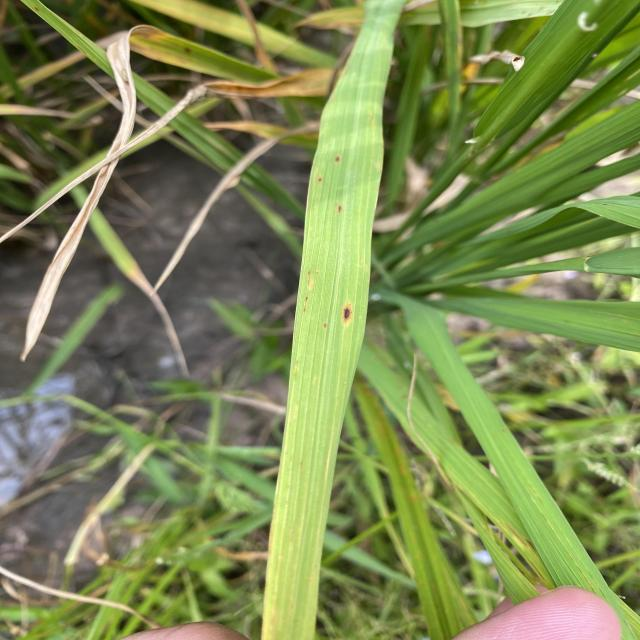Dom nau: (340, 303, 356, 326), (337, 205, 343, 215), (335, 154, 341, 163), (318, 177, 323, 183)
